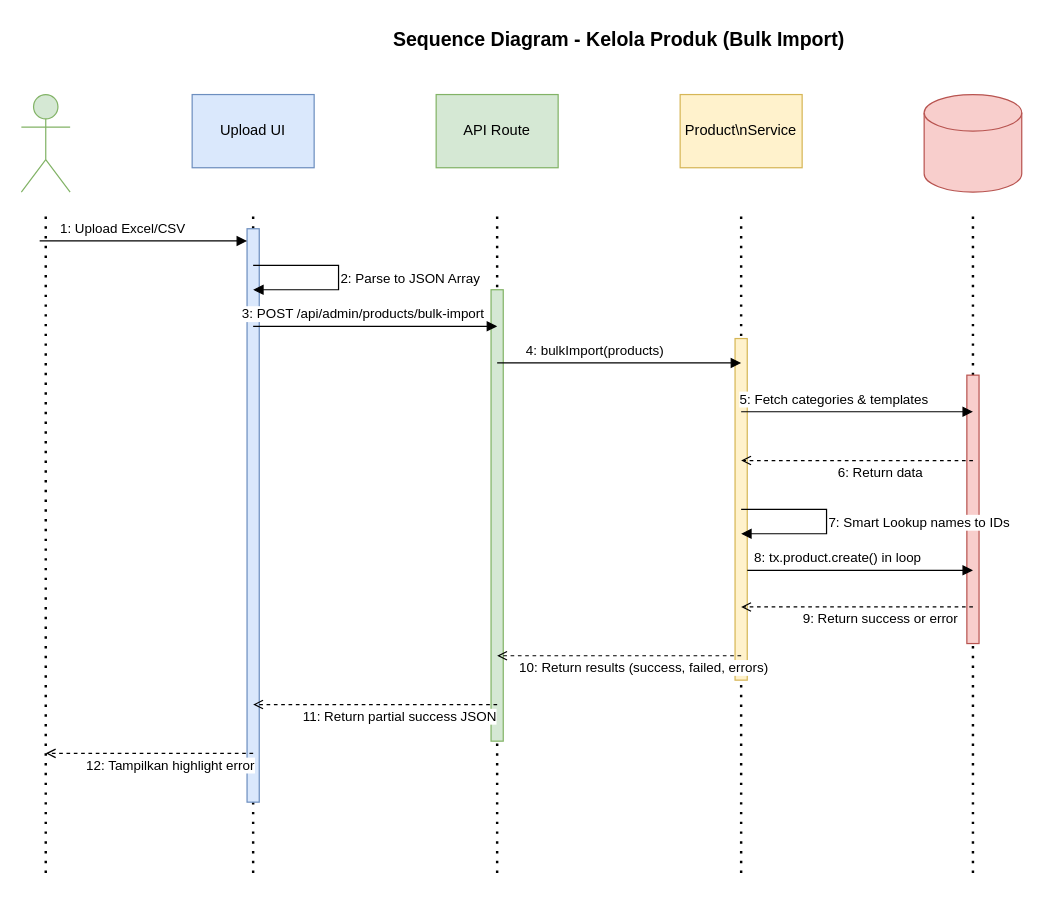
Some shapes in this 1043 by 898 pixel diagram are drawn without their labels. Each missing label, with the centre of its shape:
"Admin" goes at point 45,142.
"Database" goes at point 972,142.
